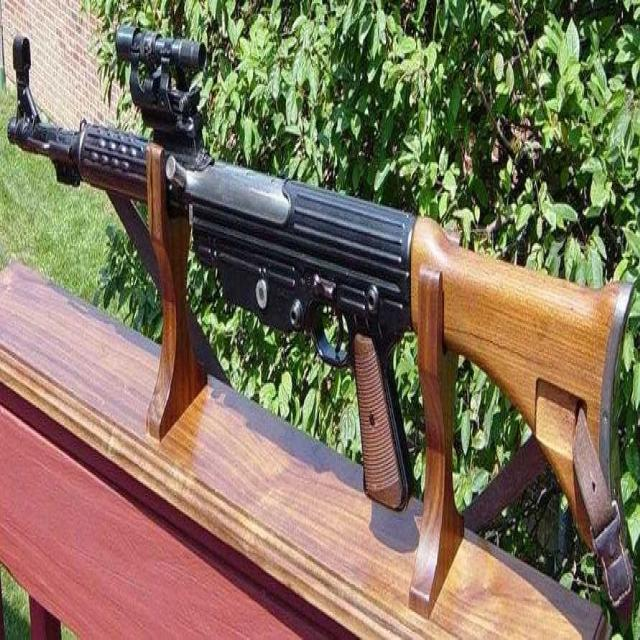RifleTel: (10, 21, 640, 606)
